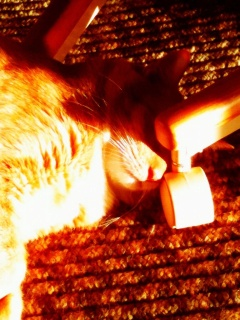Cat: (0, 31, 235, 319)
